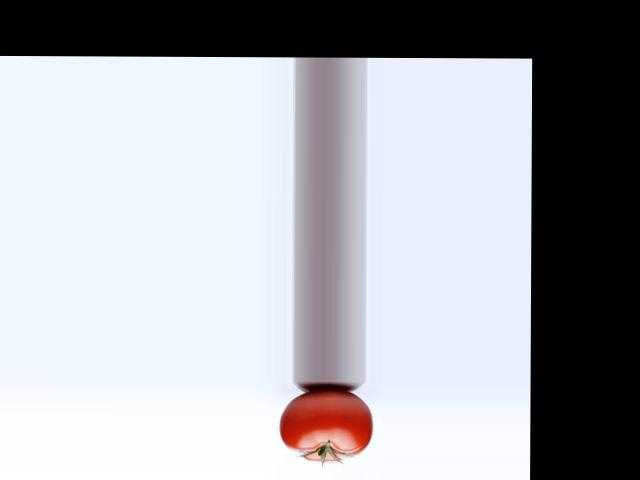tomato: (279, 389, 373, 461)
